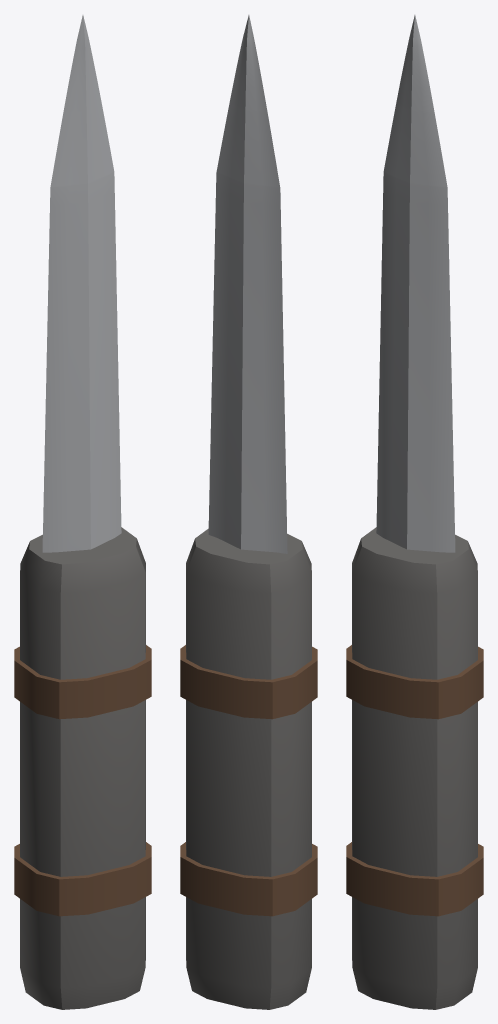
Rendered from spring-blade.glb.
3 views of the same model, side by side, from view 1: azimuth 30°, elevation 25°; view 2: azimuth 150°, elevation 25°; view 3: azimuth 330°, elevation 25° (orthographic).
Visible parts, largest first — view 1: spring-blade; view 2: spring-blade; view 3: spring-blade.
Part boxes in pixels (left/top/right/bottom): spring-blade: left=14, top=15, right=151, bottom=1009; spring-blade: left=180, top=15, right=317, bottom=1009; spring-blade: left=346, top=15, right=483, bottom=1009.
Size of the model in its own units: 0.0976 by 0.79 by 0.082.
